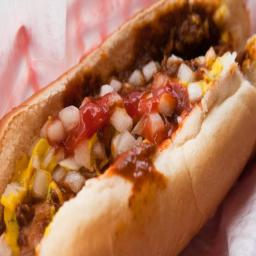hotdog: (1, 5, 256, 256)
